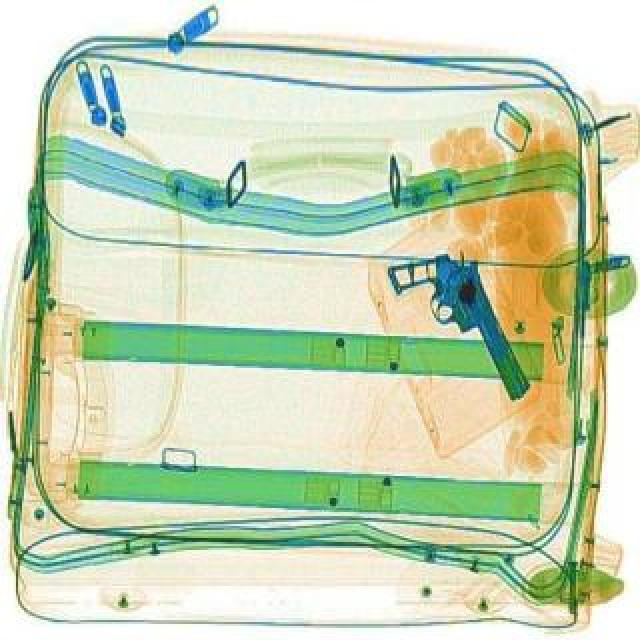gun: (382, 236, 542, 418)
